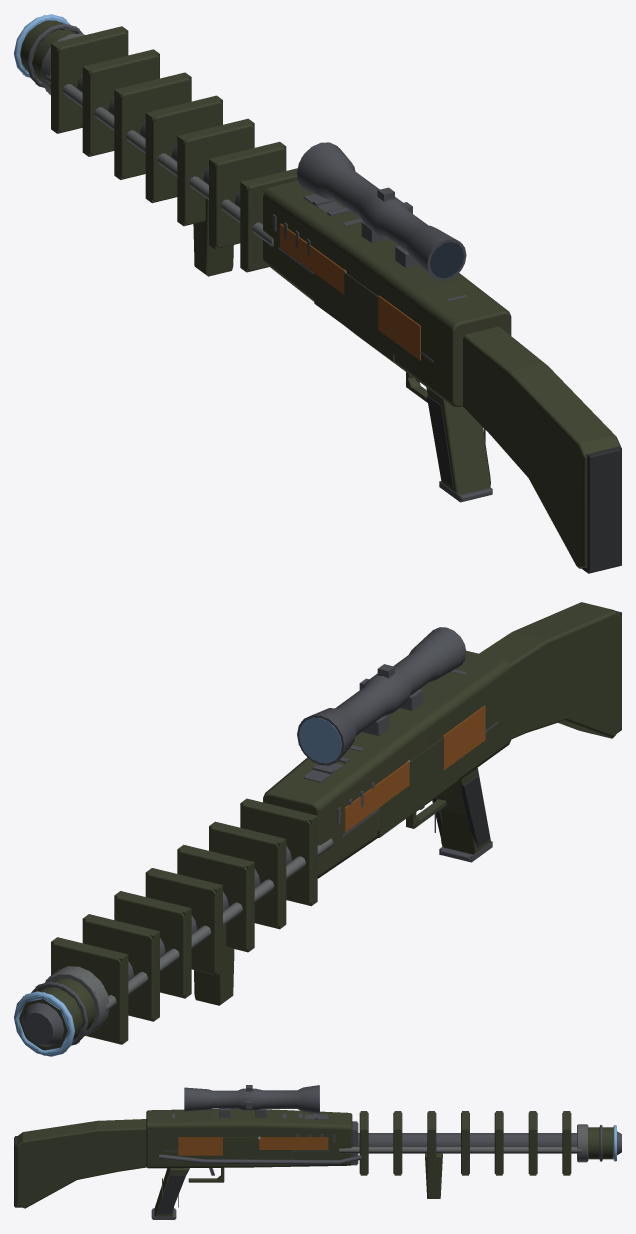
File: railgun.glb
3 views of the same model, one above another, from view 1: azimuth 30°, elevation 25°; view 2: azimuth 150°, elevation 25°; view 3: azimuth 270°, elevation 25° (orthographic). The views are drawn at different scales.
Parts seen in each view (by area): view 1: L0, L1; view 2: L0, L1; view 3: L0, L1.
Part boxes in pixels (x1,y1,x2,y2): L0: (14,14,621,572); L1: (17,15,621,573); L0: (14,602,621,1056); L1: (14,611,621,1055); L0: (14,1085,621,1218); L1: (15,1085,621,1219).
Size of the model in its own units: 0.0852 by 0.2535 by 1.08.
